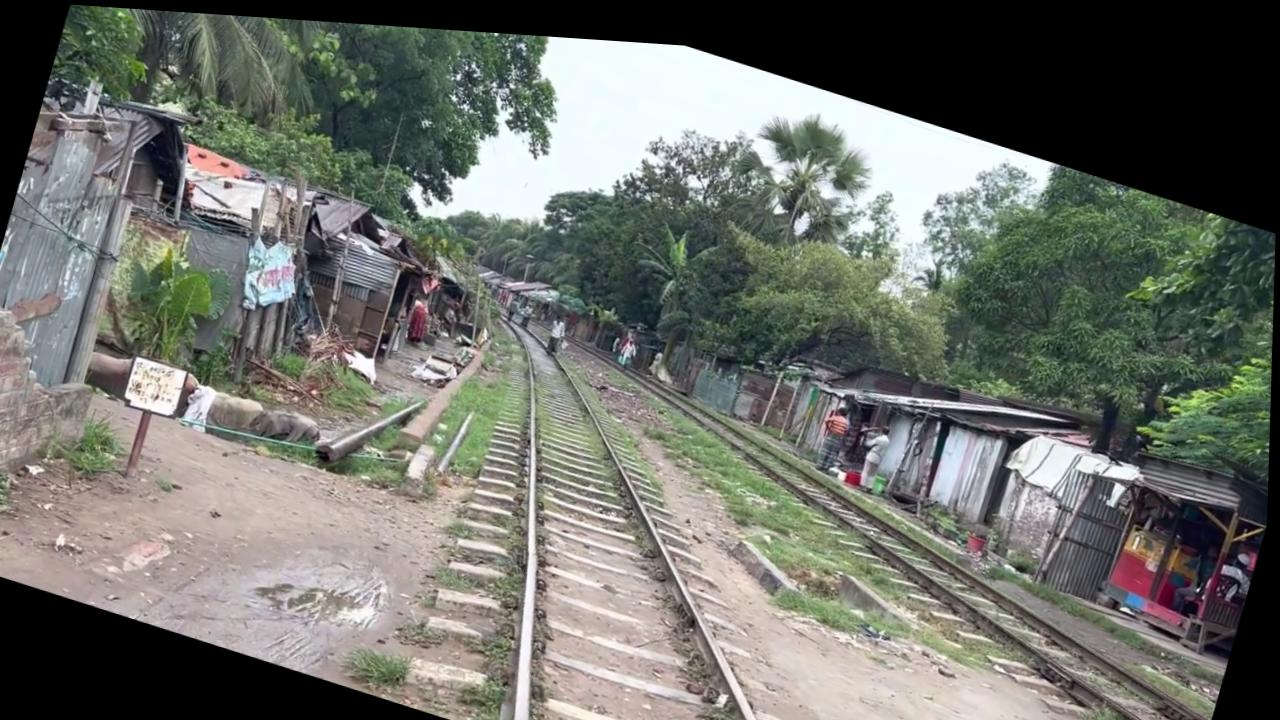Fence: (852, 406, 896, 482), (813, 390, 856, 464), (545, 305, 571, 351)
Motorcycle: (475, 307, 1266, 720), (394, 291, 935, 720)
Pothole: (122, 350, 192, 418)
Railroad-crossing: (47, 3, 358, 161), (720, 80, 886, 255)
